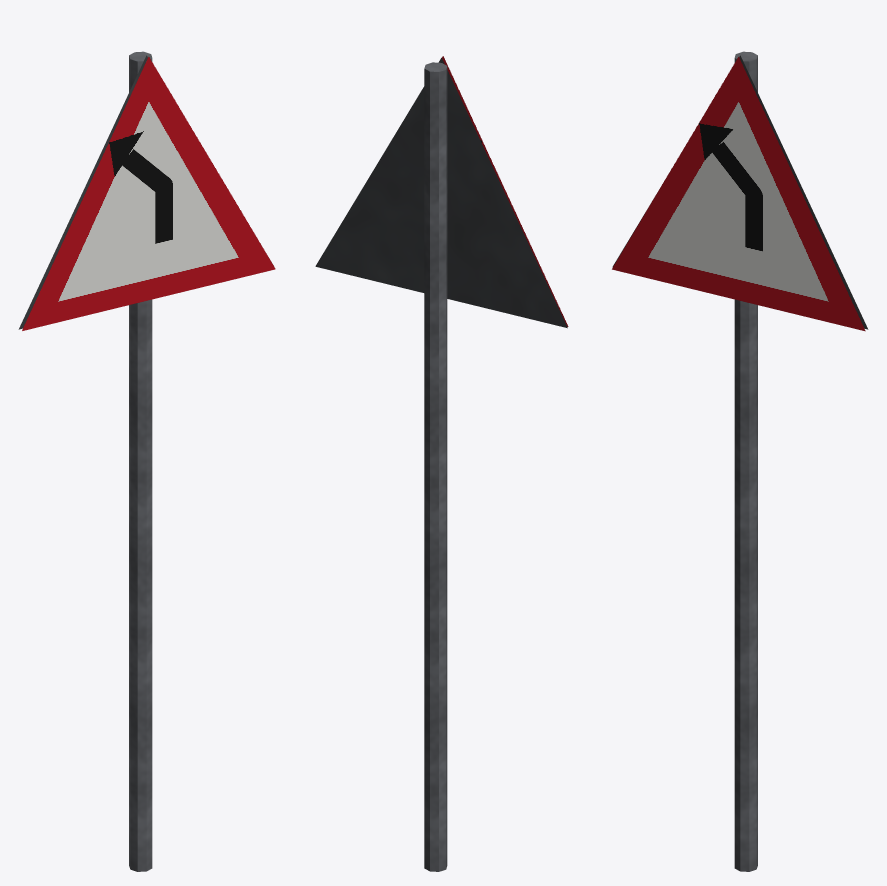
Rendered from de_curve_left.glb.
3 renders of one model, left to right at view 1: azimuth 30°, elevation 25°; view 2: azimuth 150°, elevation 25°; view 3: azimuth 330°, elevation 25°, orthographic.
Parts seen in each view (by area): view 1: de_curve_left; view 2: de_curve_left; view 3: de_curve_left.
Boxes of the visible parts, x1,y1,x2,y2 form: de_curve_left: [18, 51, 275, 871]; de_curve_left: [315, 56, 568, 871]; de_curve_left: [612, 51, 868, 871].
Size of the model in its own units: 0.9 by 2.65 by 0.08.
Materials: 3 (3 with a texture image).
